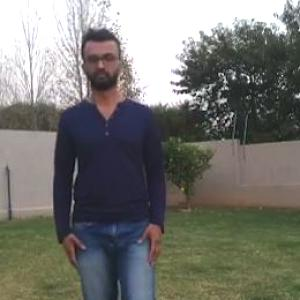follow: (64, 35, 154, 299)
